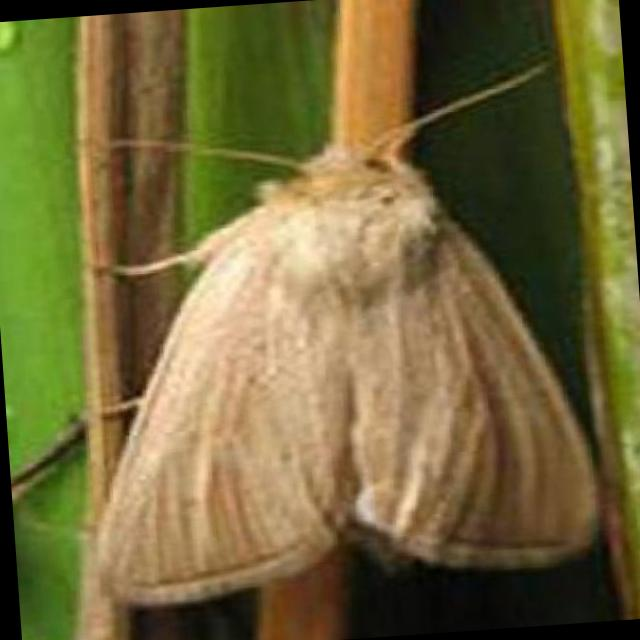stem-borer: (66, 54, 608, 616)
